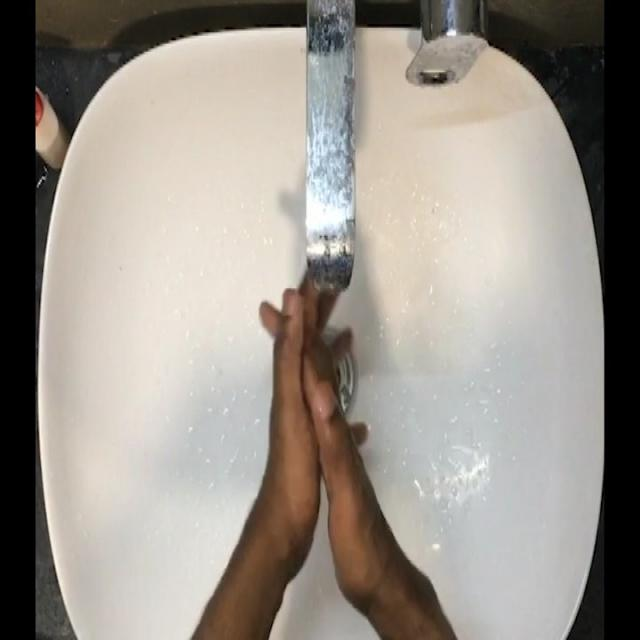step_3: (233, 234, 379, 584)
